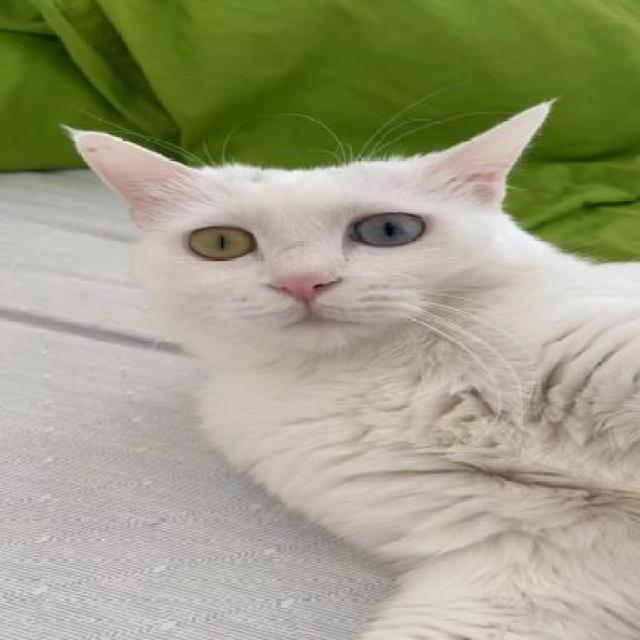cat-face: (39, 104, 582, 367)
